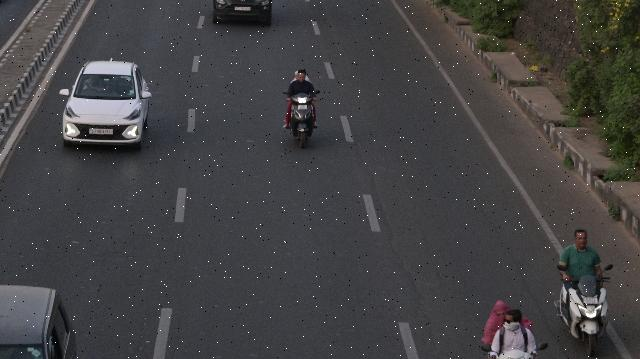Without Helmet: (502, 310, 524, 334), (572, 227, 590, 247), (492, 301, 506, 323), (294, 67, 308, 81)
